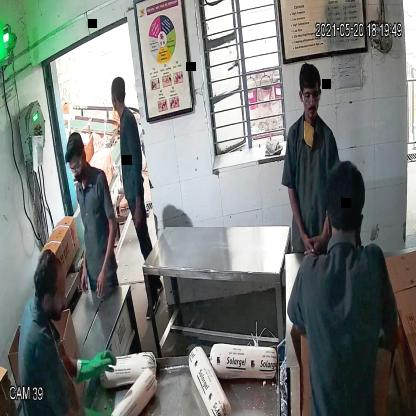goggles: (298, 87, 322, 107), (68, 158, 86, 177)
